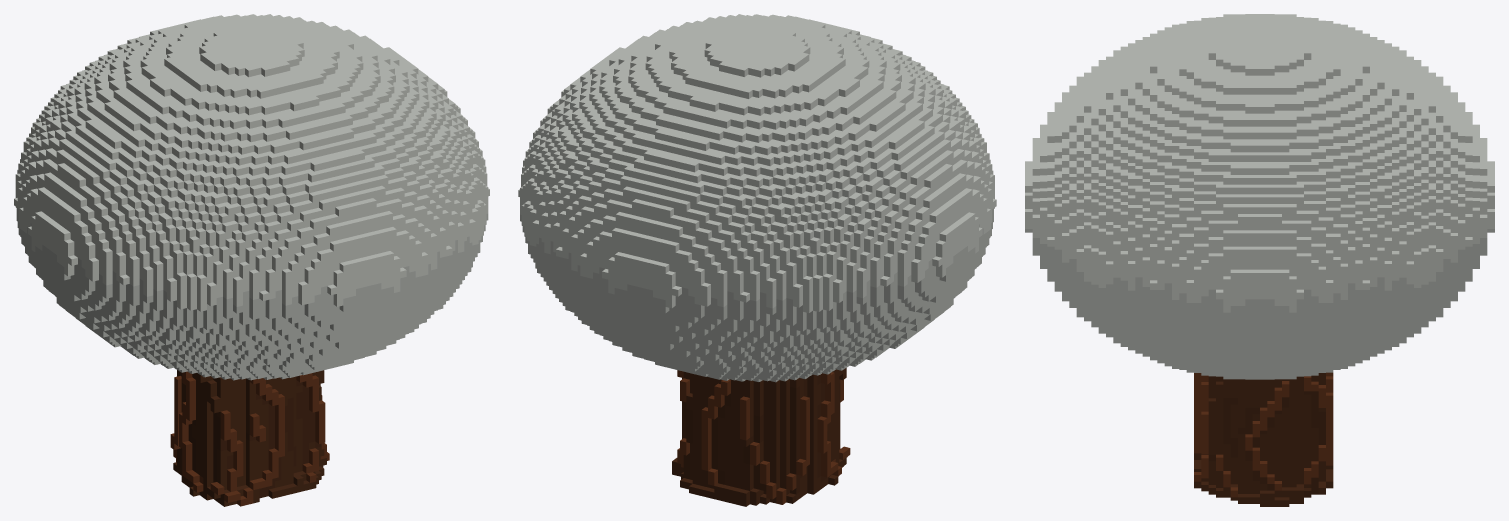
Rendered from TreeTile-4.obj.
3 renders of one model, left to right at view 1: azimuth 30°, elevation 25°; view 2: azimuth 150°, elevation 25°; view 3: azimuth 270°, elevation 25°, orthographic.
Size of the model in its own units: 6.4 by 6.4 by 6.4.
1 material, 1 textured.
